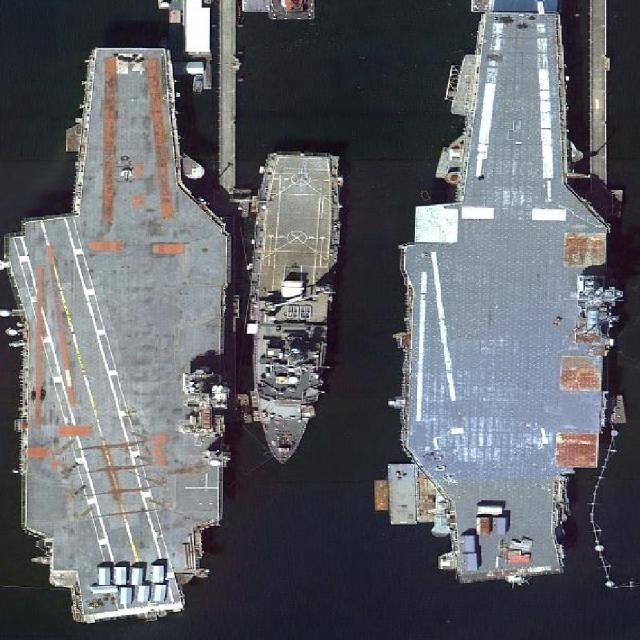Aircraft Carrier: (3, 45, 233, 622), (391, 8, 618, 577)
Dock: (220, 3, 235, 219), (593, 6, 608, 215)
Landing: (237, 147, 346, 469)
